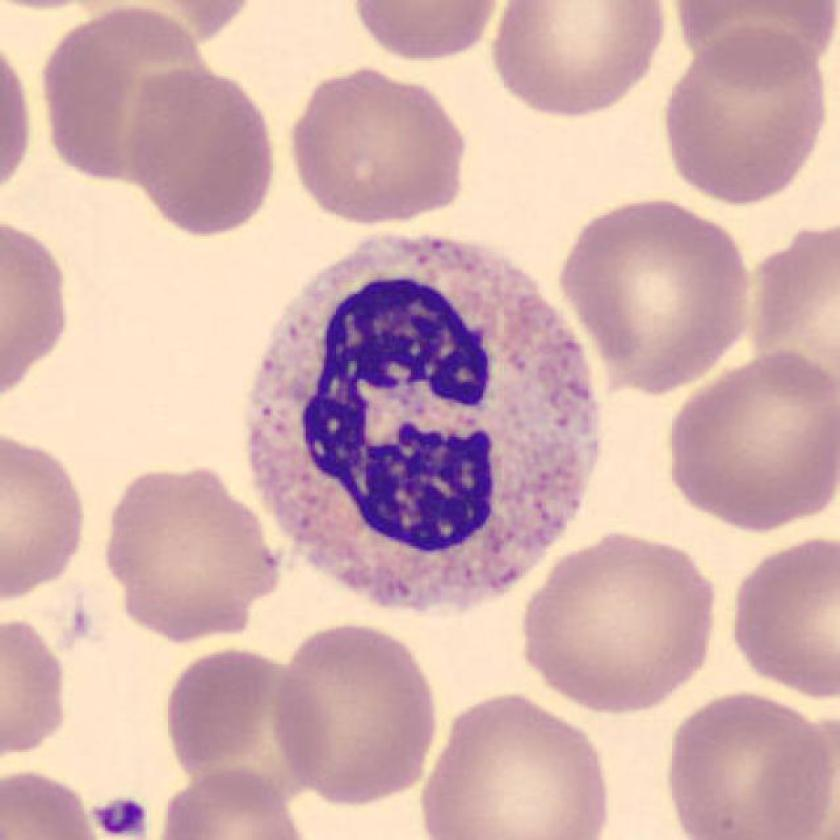neutrophil: (252, 231, 597, 614)
